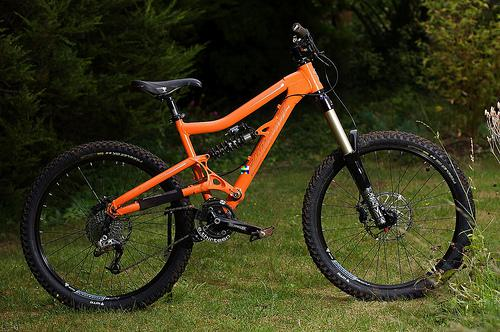car: (19, 24, 472, 316)
